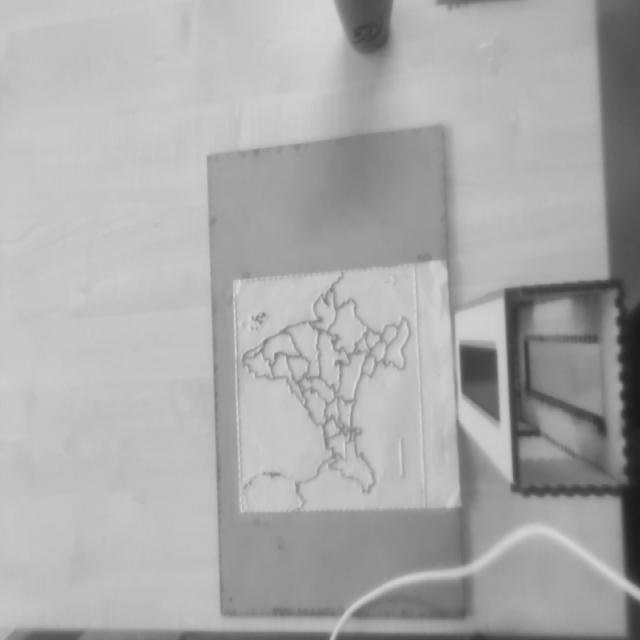map: (230, 264, 426, 516)
